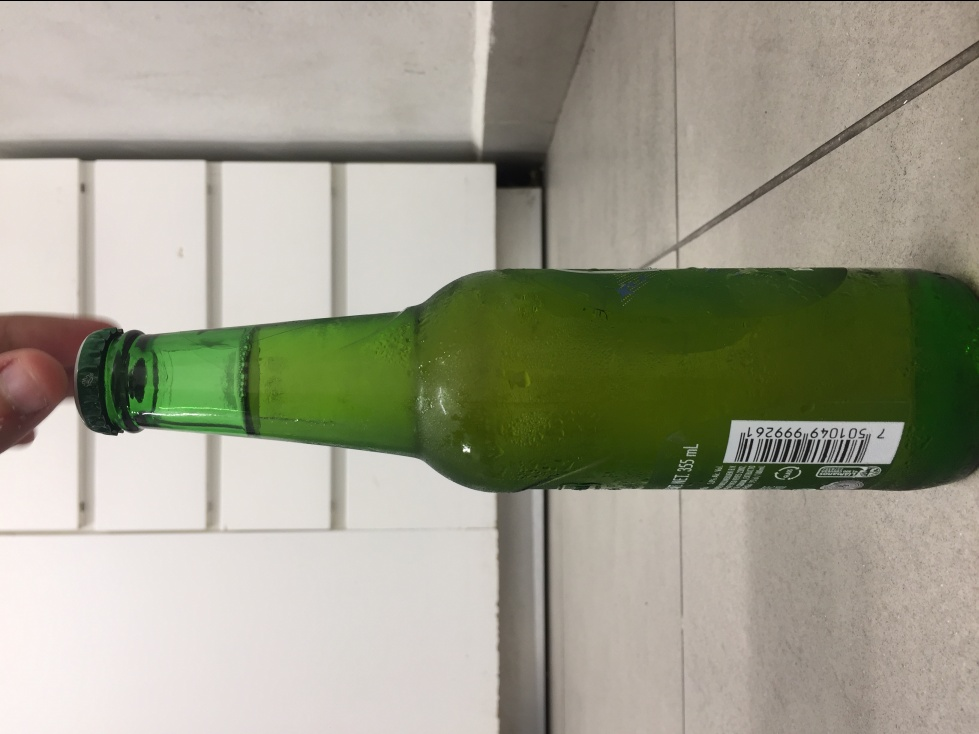heineken: (66, 262, 979, 499)
